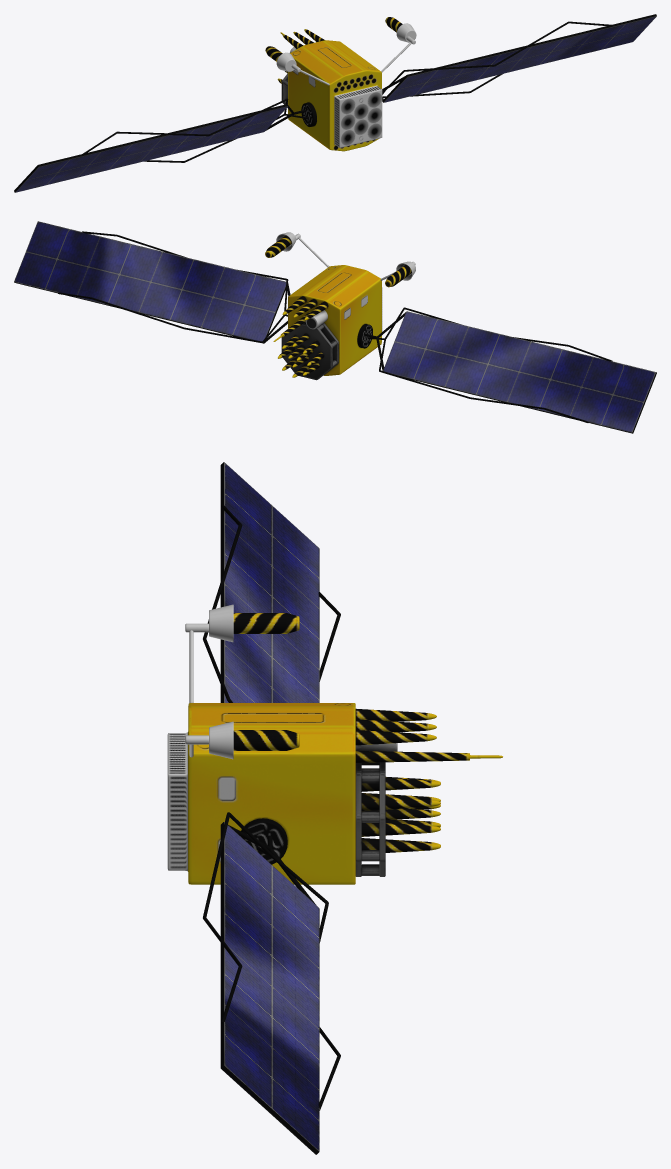
The model's file is satellite.glb.
3 views of the same model, one above another, from view 1: azimuth 30°, elevation 25°; view 2: azimuth 150°, elevation 25°; view 3: azimuth 270°, elevation 25° (orthographic). The views are drawn at different scales.
Parts seen in each view (by area): view 1: Node1; view 2: Node1; view 3: Node1.
Part boxes in pixels (bbox=[...]): Node1: bbox=[14, 14, 656, 192]; Node1: bbox=[14, 221, 656, 433]; Node1: bbox=[167, 462, 502, 1154].
Size of the model in its own units: 5123 by 811 by 1204.
Materials: 1 (1 with a texture image).
